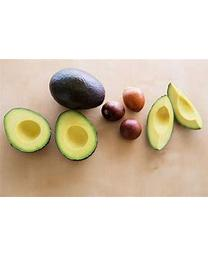avocado: (54, 110, 99, 162), (49, 69, 106, 109), (4, 108, 51, 153), (167, 80, 203, 131), (145, 92, 175, 152)
